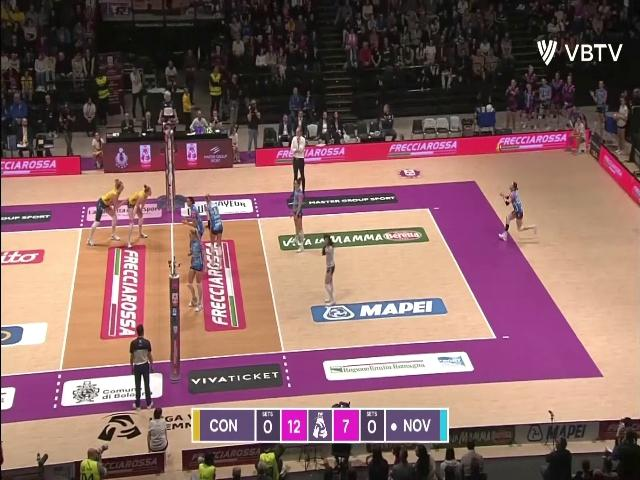volleyball court: (1, 207, 497, 374)
